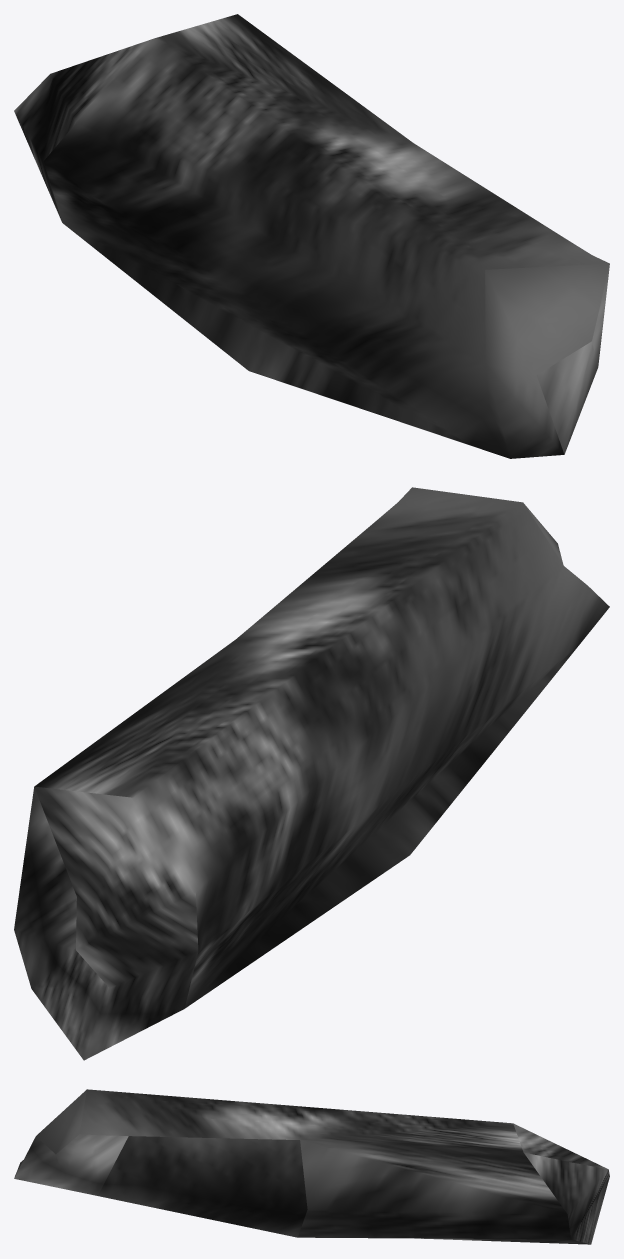
File: Rock_A.fbx
3 views of the same model, one above another, from view 1: azimuth 30°, elevation 25°; view 2: azimuth 150°, elevation 25°; view 3: azimuth 270°, elevation 25° (orthographic). The views are drawn at different scales.
Parts seen in each view (by area): view 1: pCube1; view 2: pCube1; view 3: pCube1.
Boxes of the visible parts, x1,y1,x2,y2 form: pCube1: [14, 14, 609, 458]; pCube1: [14, 487, 609, 1060]; pCube1: [14, 1089, 609, 1244].
Size of the model in its own units: 0.6485 by 0.8489 by 3.05.
1 material, 1 textured.
